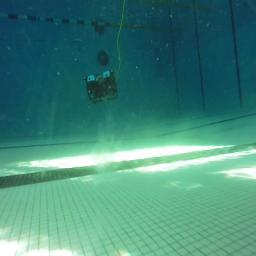front: (83, 70, 118, 104)
